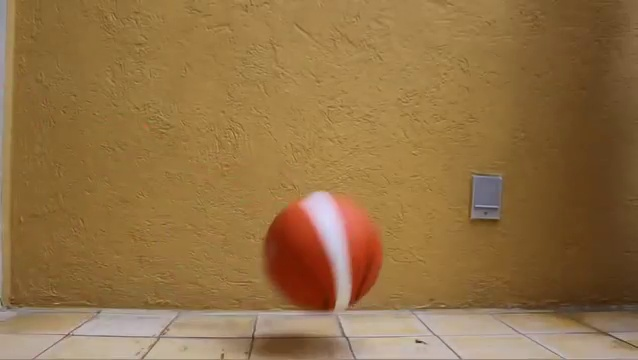ball: (263, 189, 383, 313)
